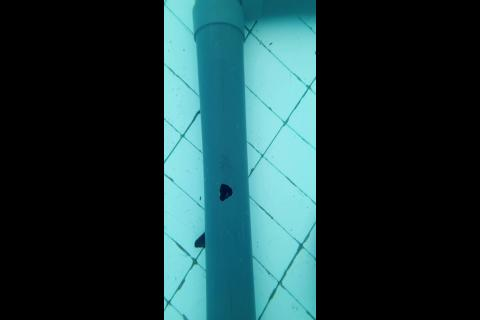kebocoran: (218, 183, 233, 202)
